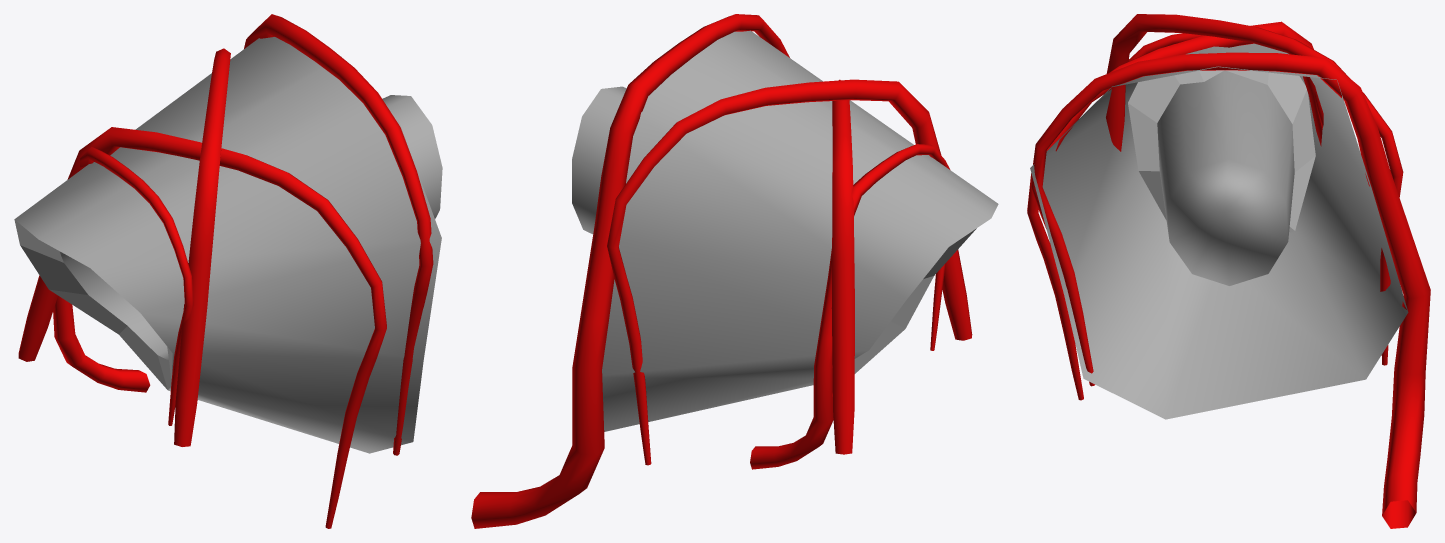
The model's file is tronc_godray.fbx.
3 views of the same model, side by side, from view 1: azimuth 30°, elevation 25°; view 2: azimuth 150°, elevation 25°; view 3: azimuth 270°, elevation 25° (orthographic). The views are drawn at different scales.
Parts seen in each view (by area): view 1: troue, racine1, racine2, racine, racine3; view 2: troue, racine, racine2, racine1, racine3; view 3: troue, racine, racine2, racine1, racine3.
Boxes of the visible parts, x1=… form: troue: x1=14, y1=37, x2=442, y2=453; racine1: x1=18, y1=127, x2=386, y2=528; racine2: x1=174, y1=48, x2=230, y2=446; racine: x1=244, y1=14, x2=433, y2=455; racine3: x1=53, y1=147, x2=193, y2=425; troue: x1=572, y1=30, x2=998, y2=431; racine: x1=471, y1=14, x2=789, y2=528; racine2: x1=607, y1=79, x2=972, y2=465; racine1: x1=831, y1=79, x2=854, y2=454; racine3: x1=750, y1=144, x2=950, y2=469; troue: x1=1030, y1=43, x2=1408, y2=419; racine: x1=1030, y1=52, x2=1430, y2=528; racine2: x1=1106, y1=14, x2=1403, y2=365; racine1: x1=1027, y1=21, x2=1322, y2=400; racine3: x1=1128, y1=33, x2=1323, y2=128.
Bounding box in the file's own units: 662 × 681 × 592.
